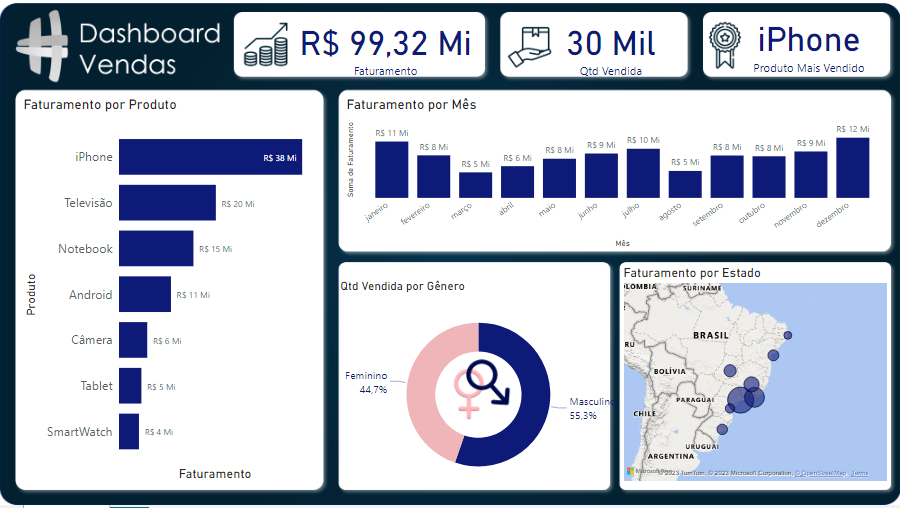

The page's visual inventory and layout, read from the dashboard file:
{"tool":"powerbi","page":{"name":"Página 1","canvas":[1280,720],"ordinal":0},"visuals":[{"type":"card","fields":{"Values":["Sum(BaseVendas.Faturamento)"]},"box":[403.1,19.8,292.8,101.8],"z":0},{"type":"card","fields":{"Values":["Sum(BaseVendas.Qtd Vendida)"]},"box":[737,9.9,263.1,121.7],"z":1000},{"type":"card","fields":{"Values":["Min(BaseVendas.Produto)"]},"box":[1017.1,0,263.1,131.6],"z":1001},{"type":"barChart","title":"Faturamento por Produto","fields":{"Y":["Sum(BaseVendas.Faturamento)"],"Category":["BaseVendas.Produto"]},"box":[32.5,141.5,417.3,550.3],"z":1002},{"type":"columnChart","title":"Faturamento por Mês","fields":{"Category":["BaseVendas.Data.Variation.Hierarquia de datas.Mês"],"Y":["Sum(BaseVendas.Faturamento)"]},"box":[489.4,141.5,773.8,219.3],"z":1003},{"type":"donutChart","title":"Qtd Vendida por Gênero","fields":{"Y":["Sum(BaseVendas.Qtd Vendida)"],"Category":["BaseVendas.Gênero"]},"box":[480.9,400.3,400.3,308.4],"z":1004},{"type":"map","title":"Faturamento por Estado","fields":{"Category":["BaseVendas.Estado"],"Size":["Sum(BaseVendas.Faturamento)"]},"box":[881.3,380.5,381.9,311.2],"z":1005}]}

Visuals, with their boxes in screenshot pixels (x1, y1, x2, y2), scaled from the page's 1280x720 canvas onto the 900x508 screenshot:
card - Sum(BaseVendas.Faturamento): 283/14/489/86
card - Sum(BaseVendas.Qtd Vendida): 518/7/703/93
card - Min(BaseVendas.Produto): 715/0/899/93
"Faturamento por Produto" barChart: 23/100/316/488
"Faturamento por Mês" columnChart: 344/100/888/255
"Qtd Vendida por Gênero" donutChart: 338/282/620/500
"Faturamento por Estado" map: 620/268/888/488
